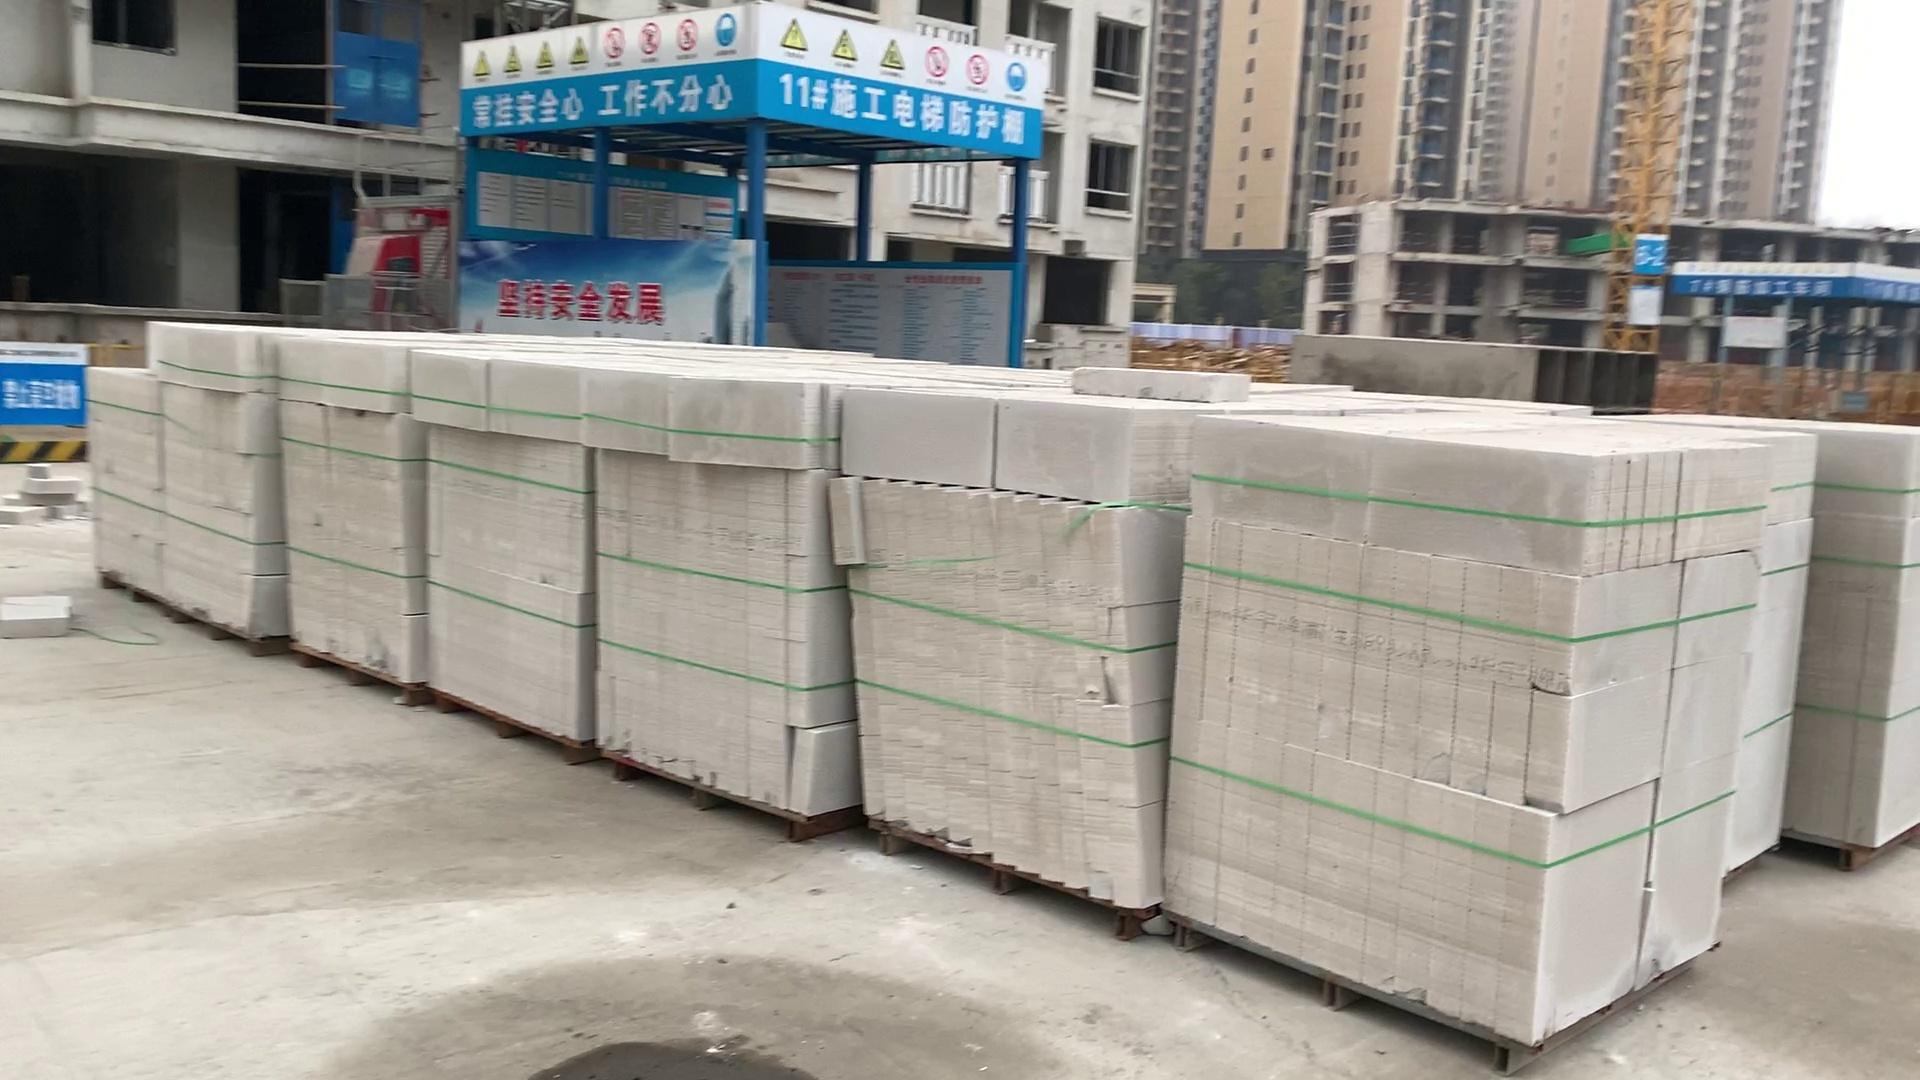brickwork: (1188, 407, 1720, 1025), (837, 389, 1170, 919), (591, 368, 833, 831), (414, 348, 588, 750), (1774, 427, 1920, 857), (88, 323, 280, 641), (272, 338, 419, 694)
